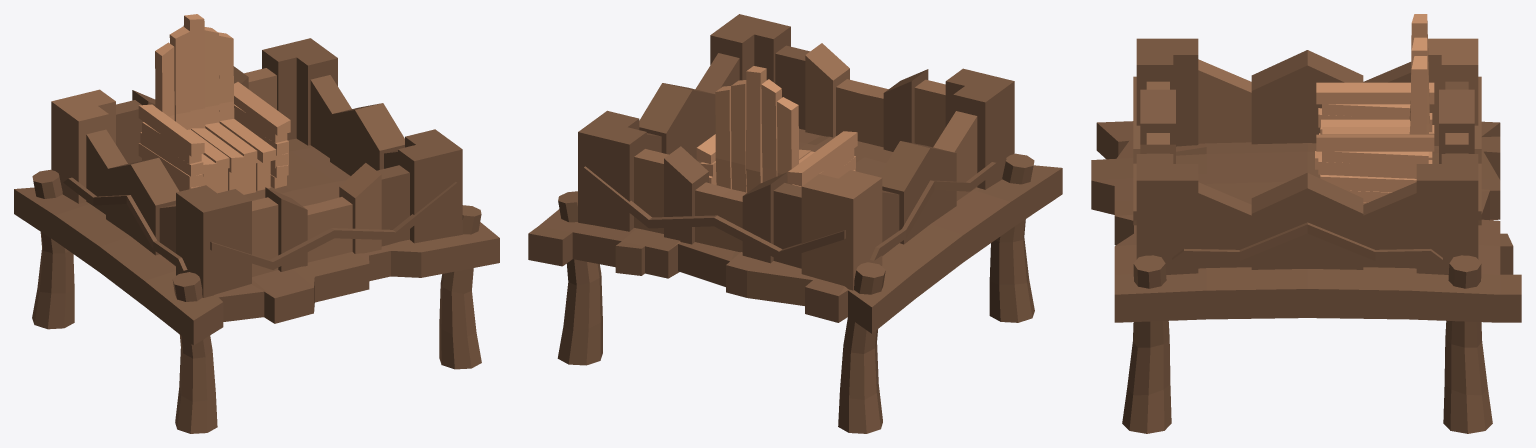
The model's file is MainTower.fbx.
3 renders of one model, left to right at view 1: azimuth 30°, elevation 25°; view 2: azimuth 150°, elevation 25°; view 3: azimuth 270°, elevation 25°, orthographic. The views are drawn at different scales.
Visible parts, largest first — view 1: Cylinder.003, Cube.003; view 2: Cylinder.003, Cube.003; view 3: Cylinder.003, Cube.003.
Boxes of the visible parts, box(x1,y1,x2,y2) form: Cylinder.003: box(14, 38, 499, 433); Cube.003: box(138, 14, 290, 194); Cylinder.003: box(528, 14, 1062, 433); Cube.003: box(696, 66, 857, 192); Cylinder.003: box(1091, 38, 1521, 433); Cube.003: box(1315, 14, 1434, 204).
Bounding box in the file's own units: 195 × 172 × 206.
